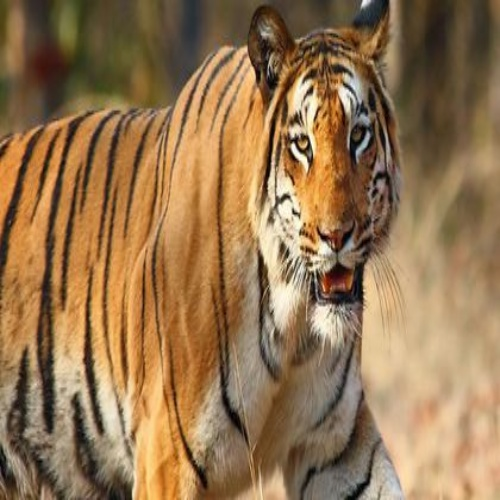tiger: (29, 32, 488, 500)
